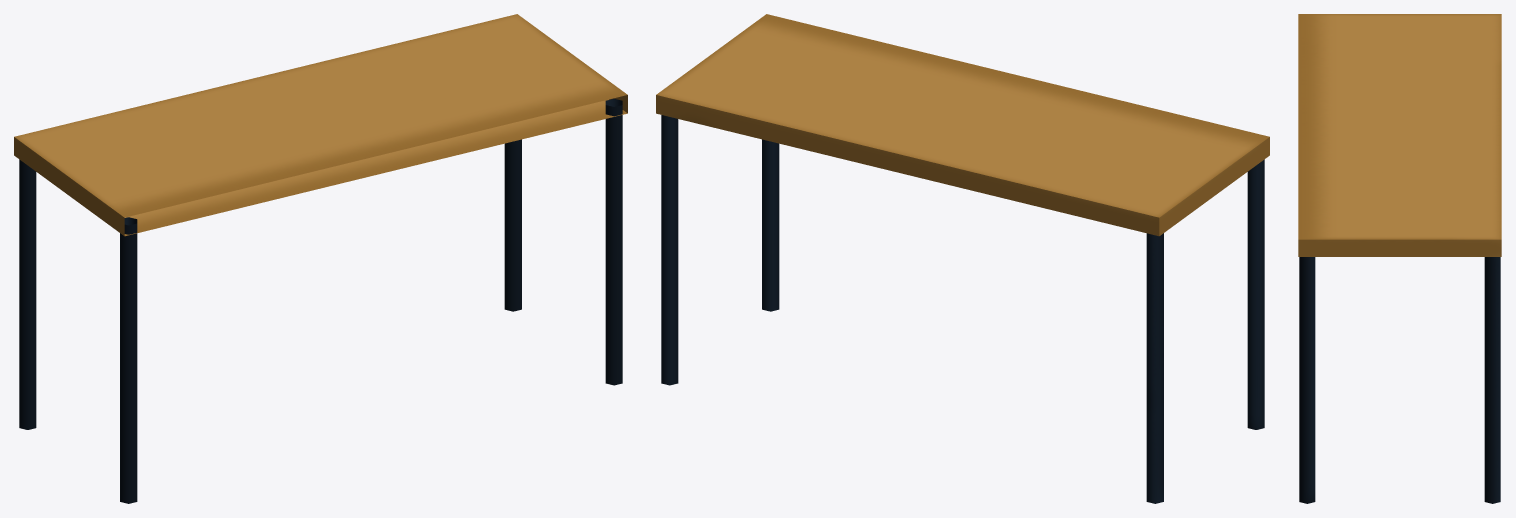
Rendered from SOD_Table_Asset.fbx.
3 renders of one model, left to right at view 1: azimuth 30°, elevation 25°; view 2: azimuth 150°, elevation 25°; view 3: azimuth 270°, elevation 25°, orthographic. The views are drawn at different scales.
Parts seen in each view (by area): view 1: SOD_Table_Asset; view 2: SOD_Table_Asset; view 3: SOD_Table_Asset.
Part boxes in pixels (box(x1,y1,x2,y2)): SOD_Table_Asset: box(14, 14, 627, 503); SOD_Table_Asset: box(656, 14, 1269, 503); SOD_Table_Asset: box(1298, 14, 1501, 503).
Bounding box in the file's own units: 176 × 96.3 × 67.03.
1 material, 1 textured.
